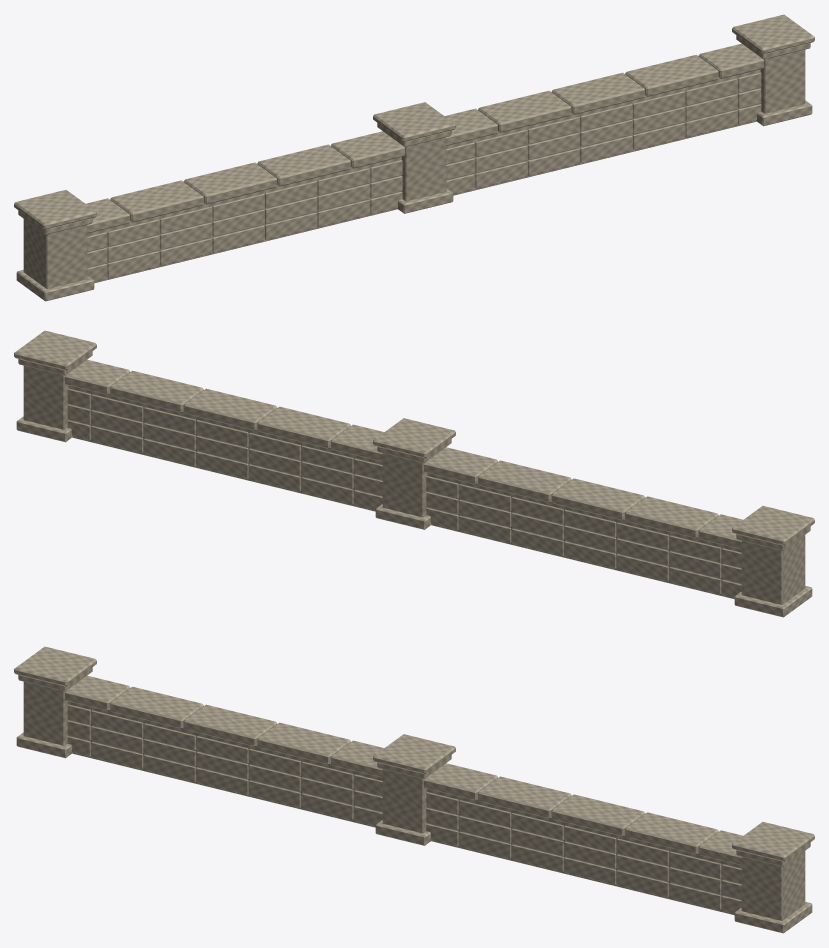
Rendered from gardenBorder.glb.
The picture shows the model from 3 angles, top to bottom: view 1: azimuth 30°, elevation 25°; view 2: azimuth 150°, elevation 25°; view 3: azimuth 330°, elevation 25°; orthographic projection.
Visible parts, largest first — view 1: Garden_gardenBorder.001; view 2: Garden_gardenBorder.001; view 3: Garden_gardenBorder.001.
Part boxes in pixels (x1,y1,x2,y2): Garden_gardenBorder.001: (14,14,814,301); Garden_gardenBorder.001: (14,330,814,617); Garden_gardenBorder.001: (14,646,814,933).
Size of the model in its own units: 10.49 by 1.02 by 0.73.
1 material, 1 textured.
